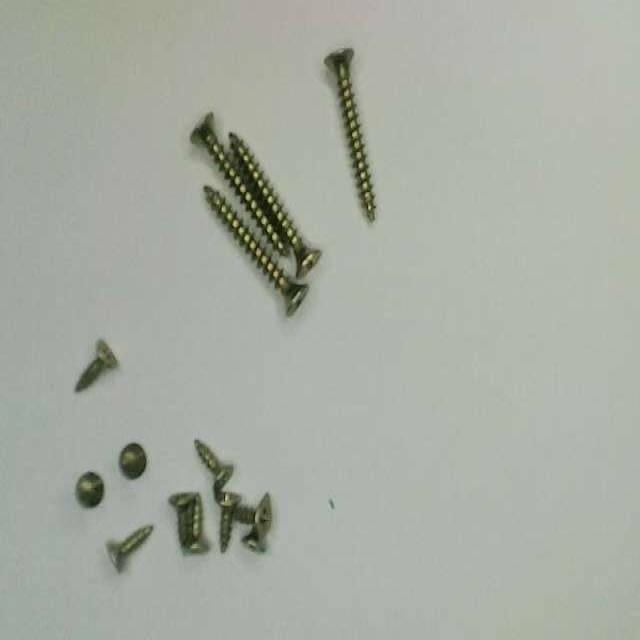Parafuso: (190, 114, 288, 255), (203, 186, 308, 315), (229, 132, 321, 278), (325, 48, 374, 221), (194, 439, 233, 498), (75, 339, 117, 391), (106, 526, 153, 571), (216, 491, 240, 553), (183, 494, 208, 553), (234, 492, 271, 531), (169, 494, 194, 549), (76, 471, 103, 507), (119, 443, 146, 478), (242, 527, 266, 553)
